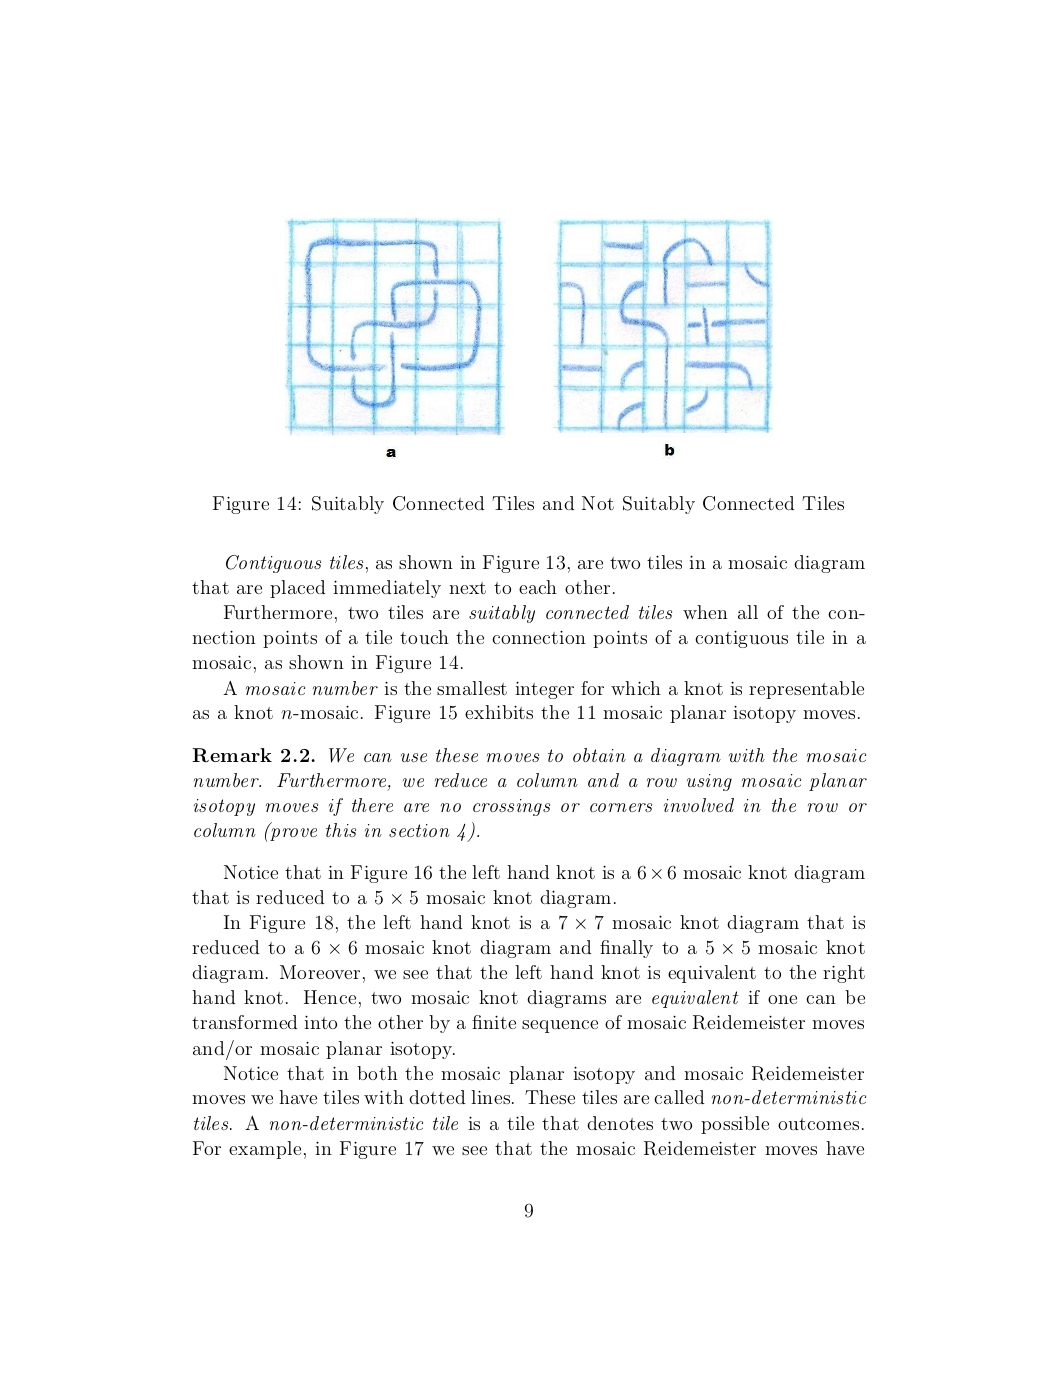figure: (285, 217, 504, 435), (553, 218, 772, 434)
